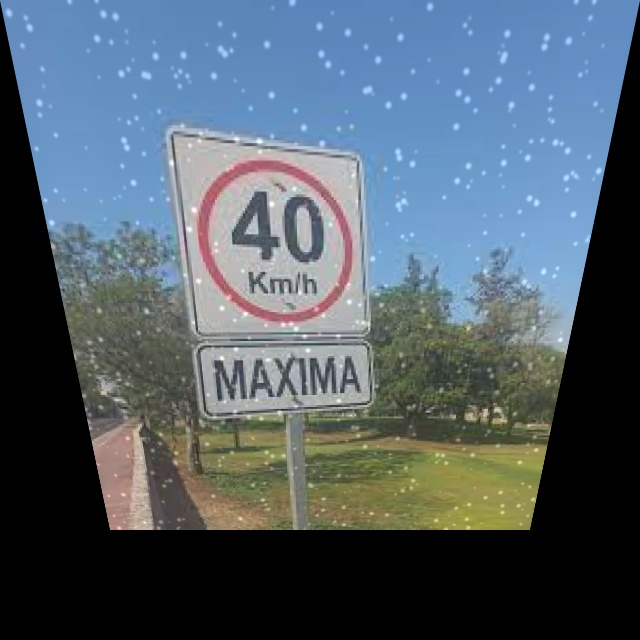Speed_Limit_40: (183, 144, 369, 332)
